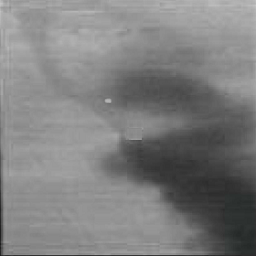Target: (103, 97, 112, 105)
